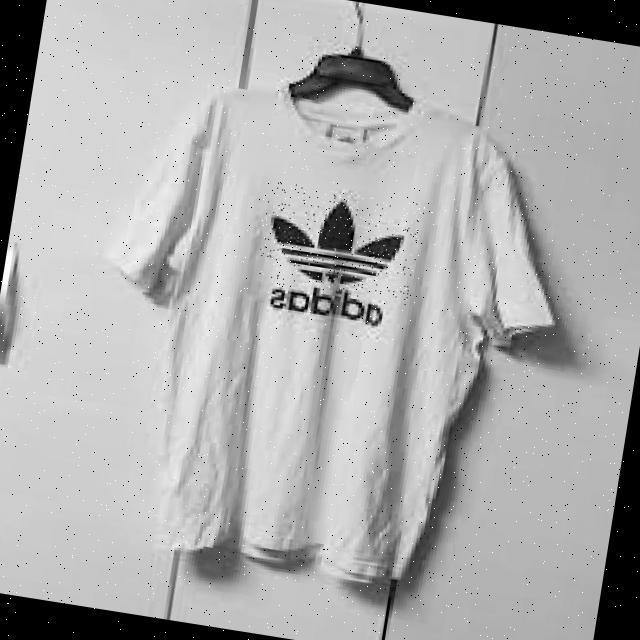Adidas: (256, 181, 426, 306)
